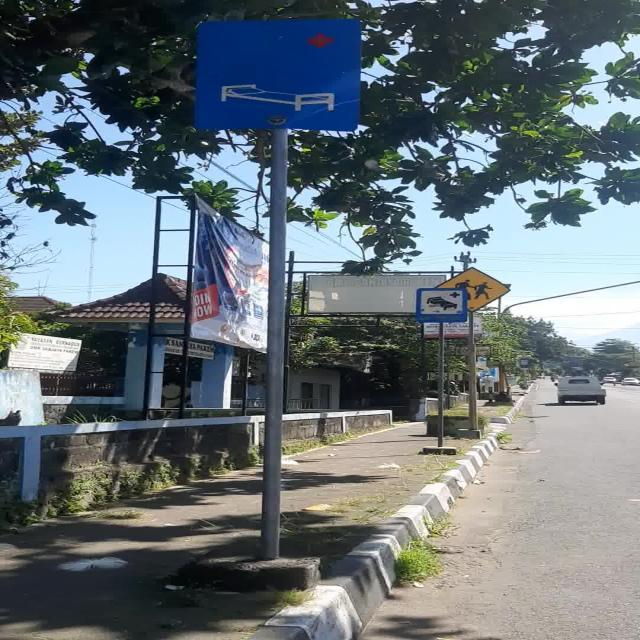Rumah Sakit: (195, 18, 362, 132)
